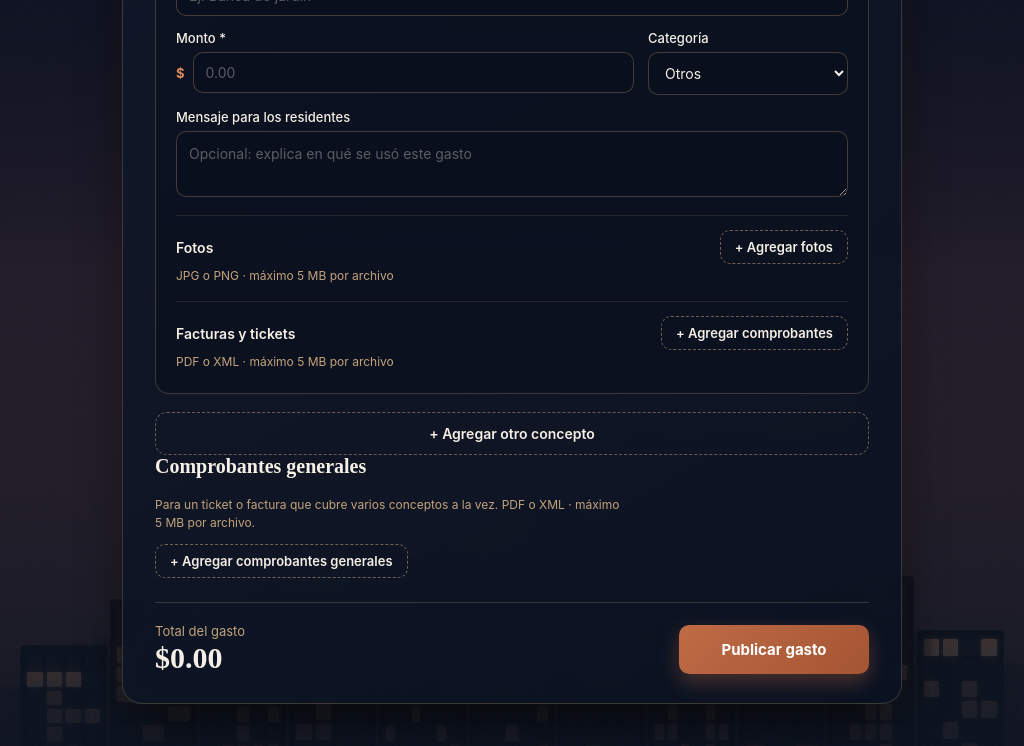
Test: CU-12 PublicarGastoPage › valida título y conceptos antes de enviar
Click the button "Publicar gasto" at (774, 649), box [679,625,869,674]
(page scrolled)
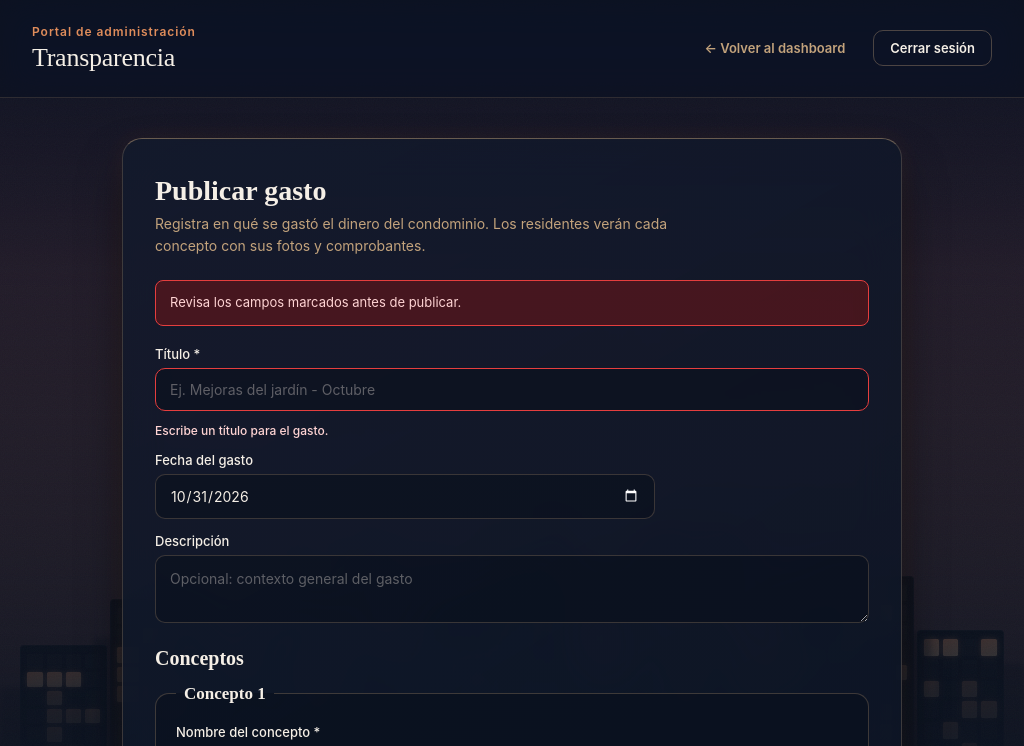
Expected: the text "Escribe un título para el gasto." is shown, [155,423,328,438]
Expected: the text "Revisa los campos marcados antes de publicar." is shown, [155,280,869,326]
